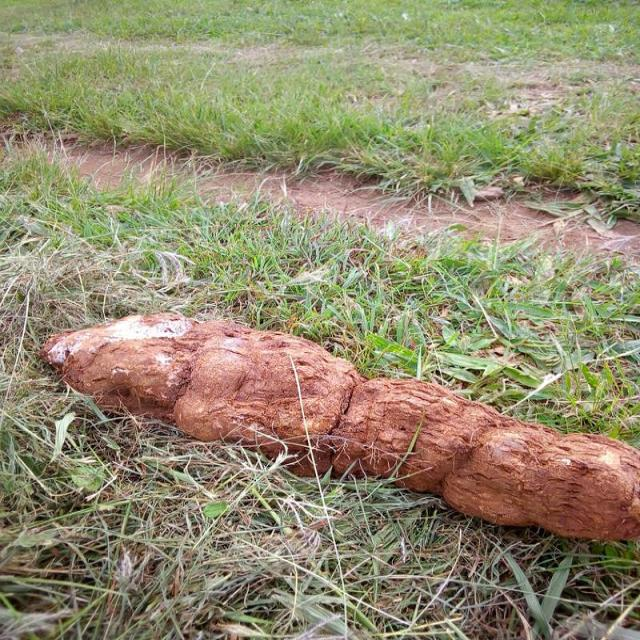cassava leaf: (41, 309, 639, 543)
